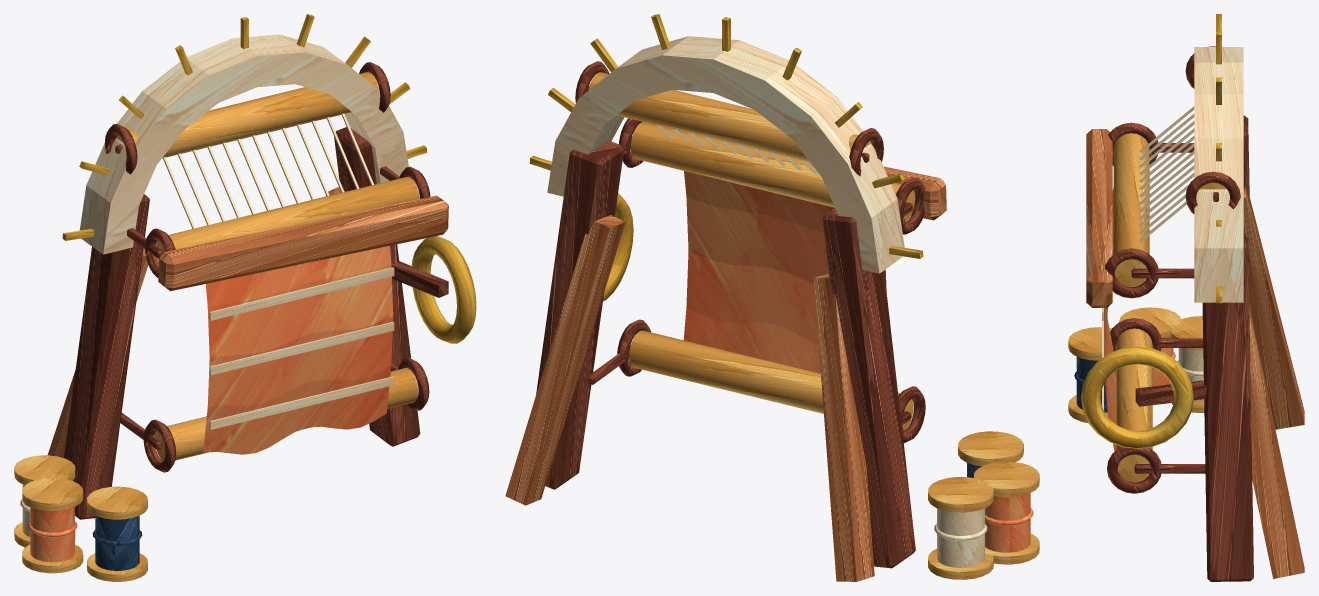
The model's file is revised-07-05.glb.
3 views of the same model, side by side, from view 1: azimuth 30°, elevation 25°; view 2: azimuth 150°, elevation 25°; view 3: azimuth 270°, elevation 25° (orthographic). The views are drawn at different scales.
Parts seen in each view (by area): view 1: sundial_loom; view 2: sundial_loom; view 3: sundial_loom.
Part boxes in pixels (bbox=[...]): sundial_loom: bbox=[14, 14, 476, 581]; sundial_loom: bbox=[505, 14, 1039, 581]; sundial_loom: bbox=[1068, 14, 1304, 581].
Bounding box in the file's own units: 1.75 × 1.78 × 0.8109.
2 materials, 2 textured.
